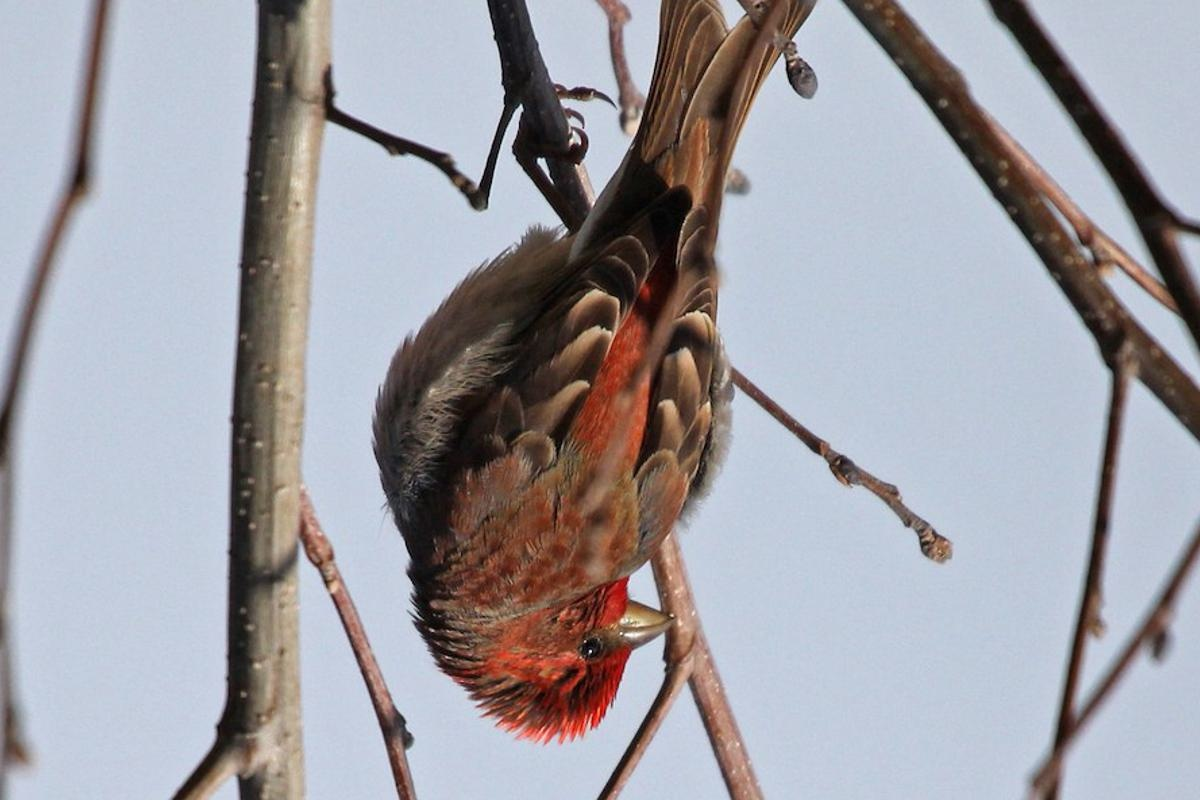rosefinch: (430, 100, 738, 766)
